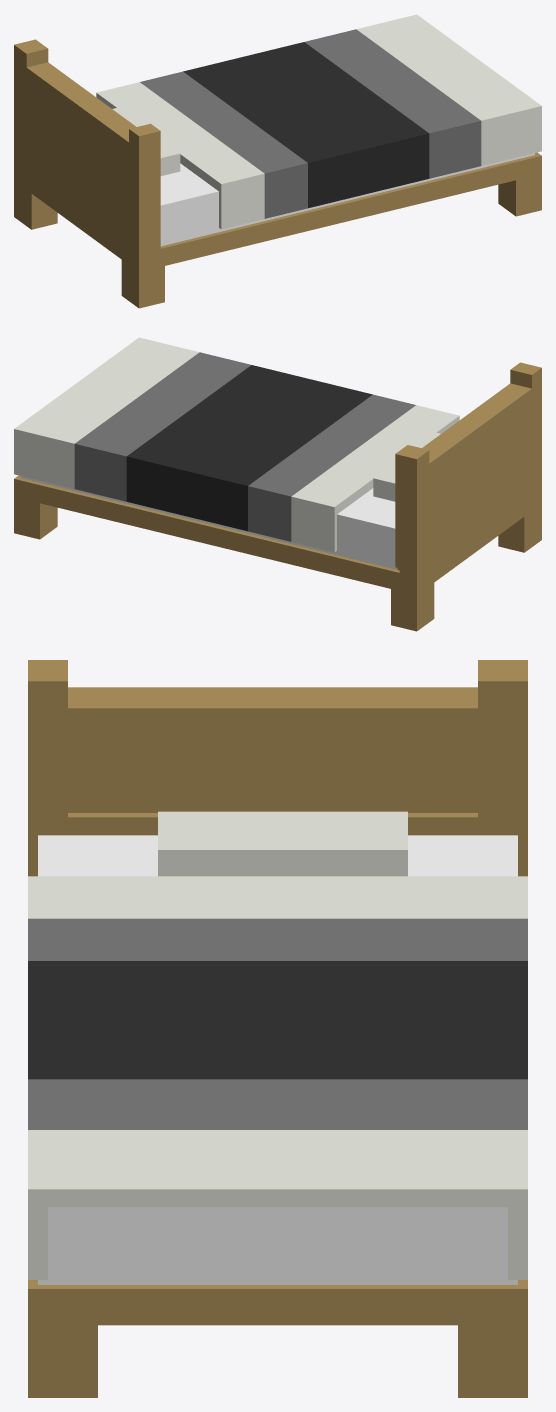
Rendered from bed.obj.
3 renders of one model, top to bottom at view 1: azimuth 30°, elevation 25°; view 2: azimuth 150°, elevation 25°; view 3: azimuth 270°, elevation 25°, orthographic. The views are drawn at different scales.
Size of the model in its own units: 9.3 by 3.8 by 5.
1 material, 1 textured.
